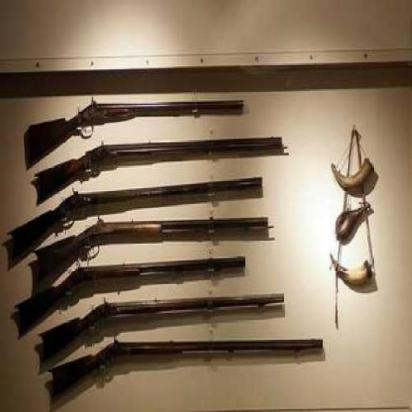Gun: (33, 172, 260, 206)
